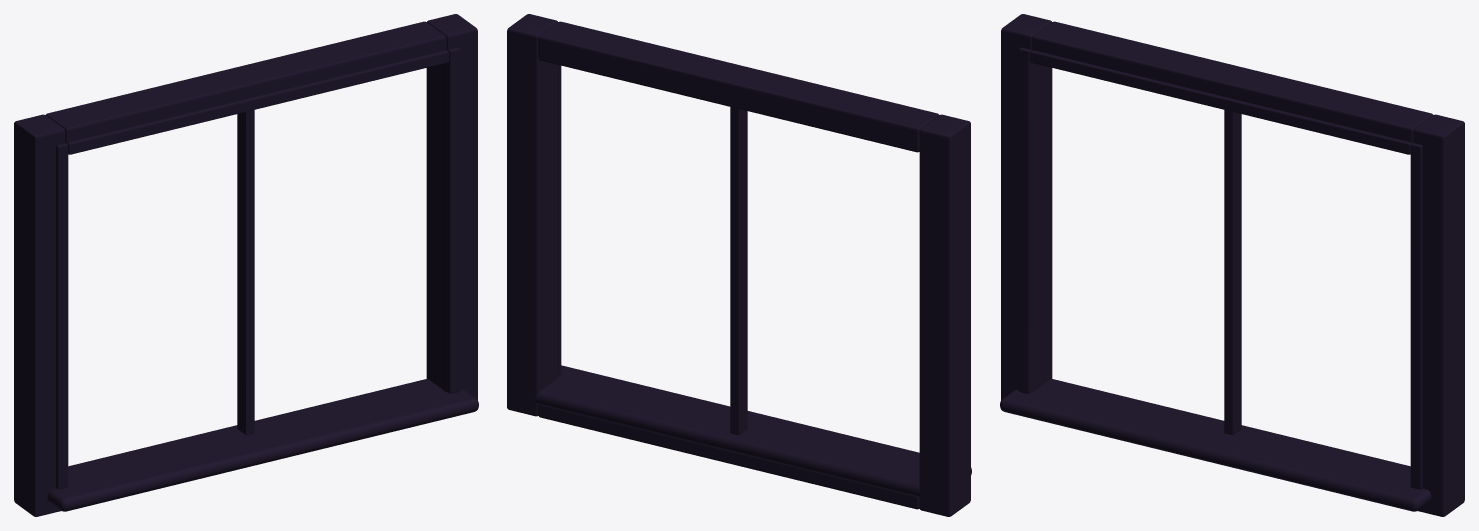
The model's file is window.glb.
3 renders of one model, left to right at view 1: azimuth 30°, elevation 25°; view 2: azimuth 150°, elevation 25°; view 3: azimuth 330°, elevation 25°, orthographic.
Visible parts, largest first — view 1: frame, mullion; view 2: frame, mullion; view 3: frame, mullion.
Part boxes in pixels (x1=…): frame: x1=14, y1=14, x2=478, y2=516; mullion: x1=237, y1=110, x2=254, y2=435; frame: x1=507, y1=14, x2=971, y2=516; mullion: x1=730, y1=107, x2=747, y2=435; frame: x1=1000, y1=14, x2=1464, y2=516; mullion: x1=1224, y1=110, x2=1241, y2=435.
Size of the model in its own units: 1.4 by 1.15 by 0.2.
